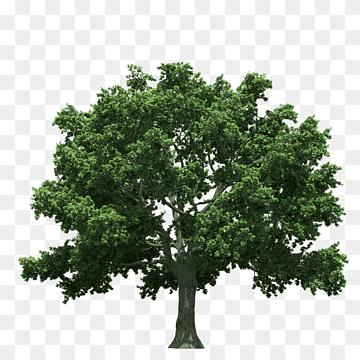tree: (19, 60, 350, 348)
